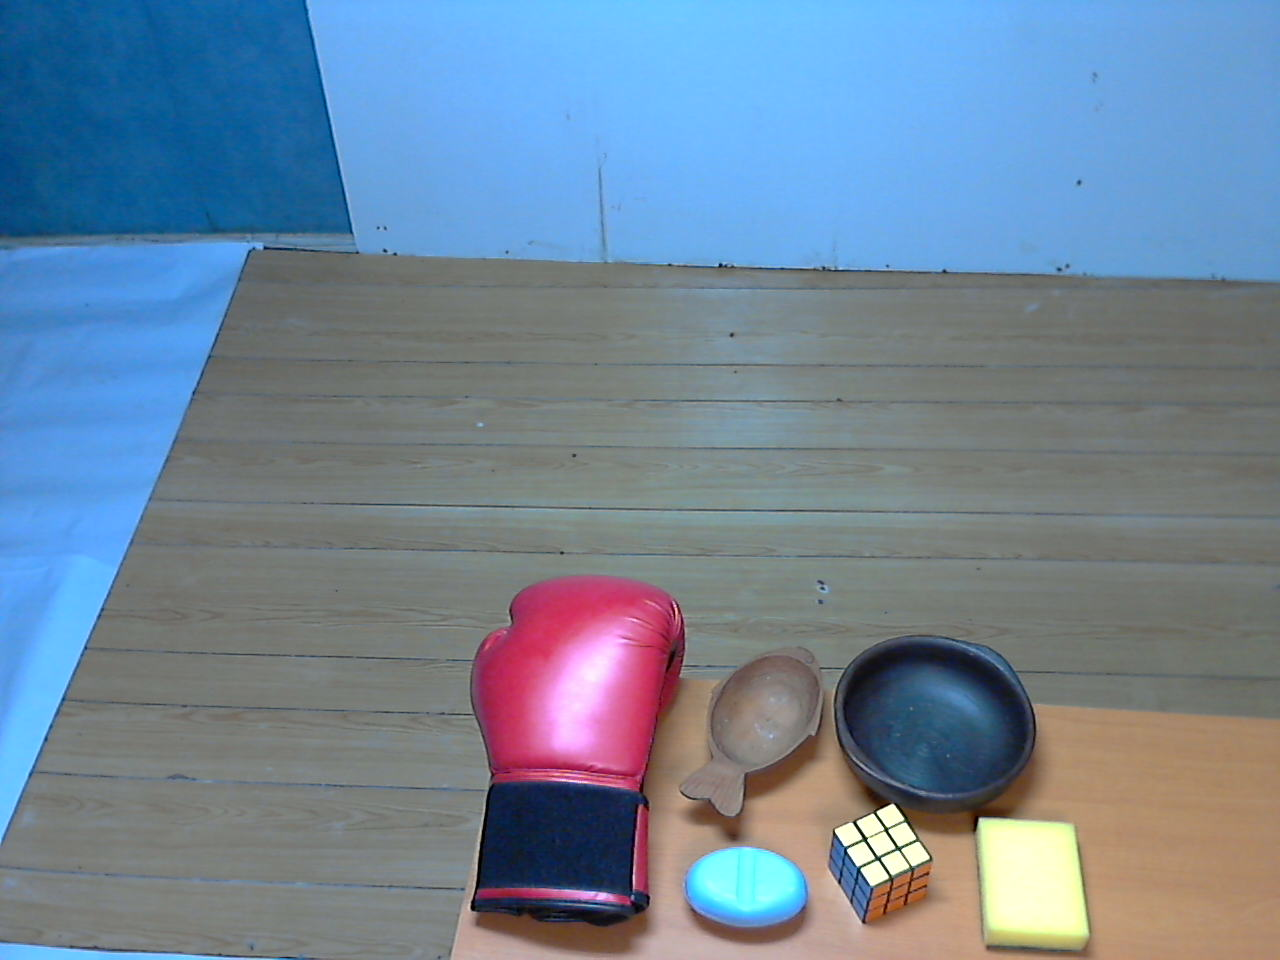cubix: (815, 784, 942, 939)
esponja: (961, 804, 1106, 960)
greda: (814, 614, 1052, 831)
guante: (438, 566, 705, 936)
jabon: (674, 838, 816, 944)
pescado: (671, 626, 847, 832)
